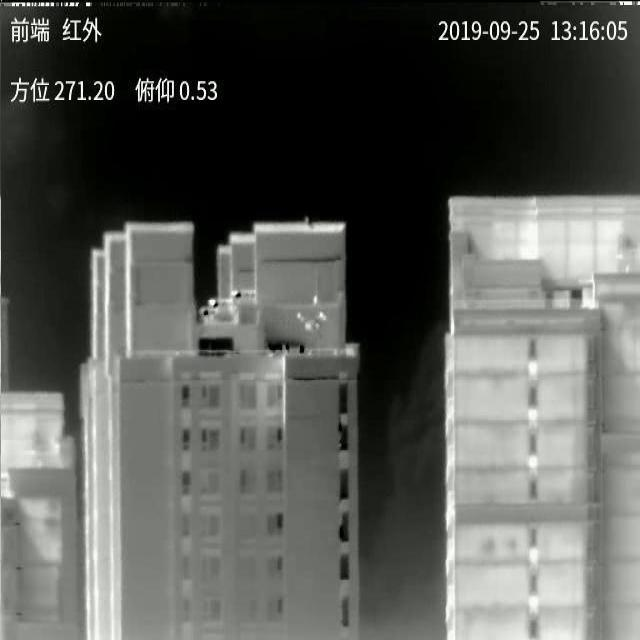drone: (297, 312, 328, 332)
